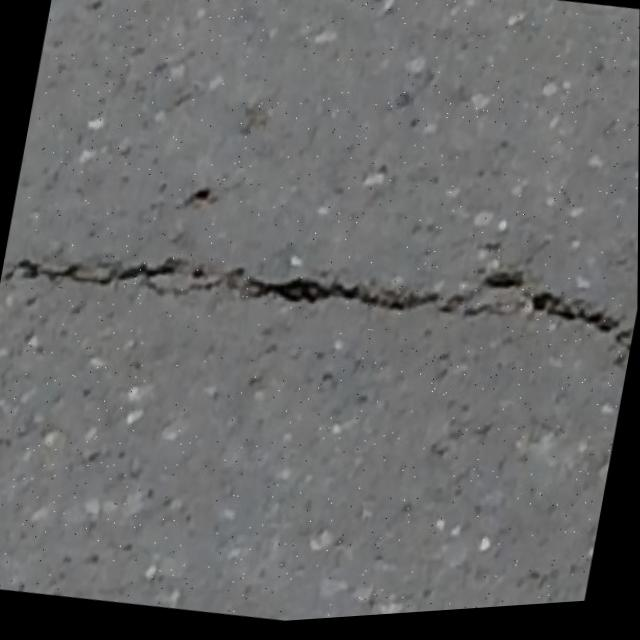Crack: (0, 165, 639, 461)
